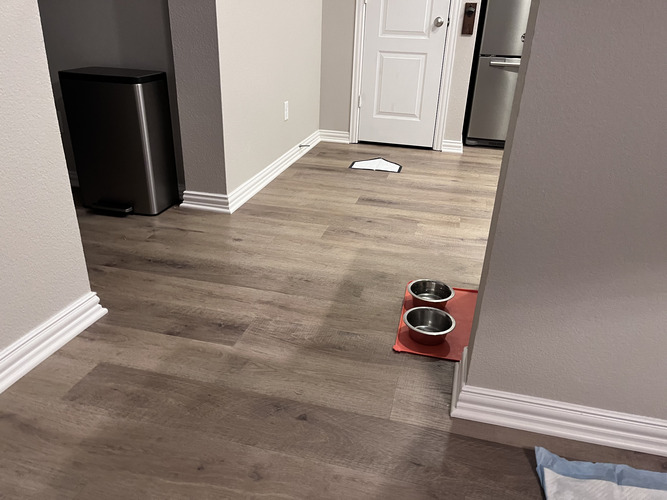homeplate: (349, 156, 403, 174)
